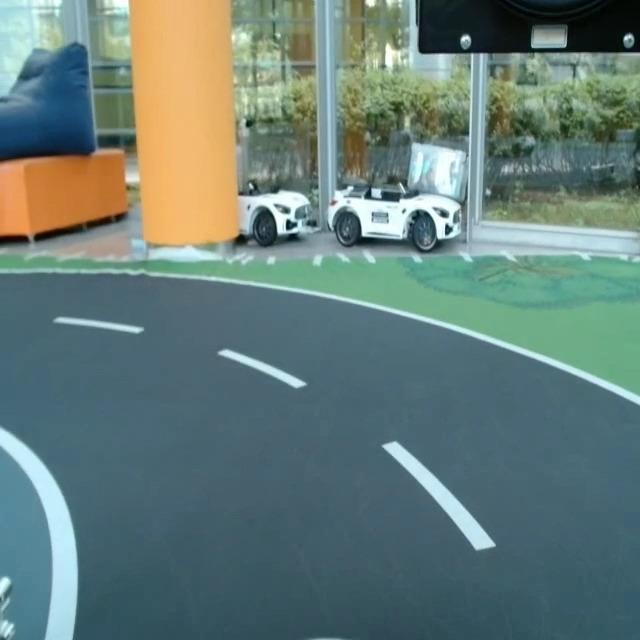traffic-light: (418, 0, 640, 56)
